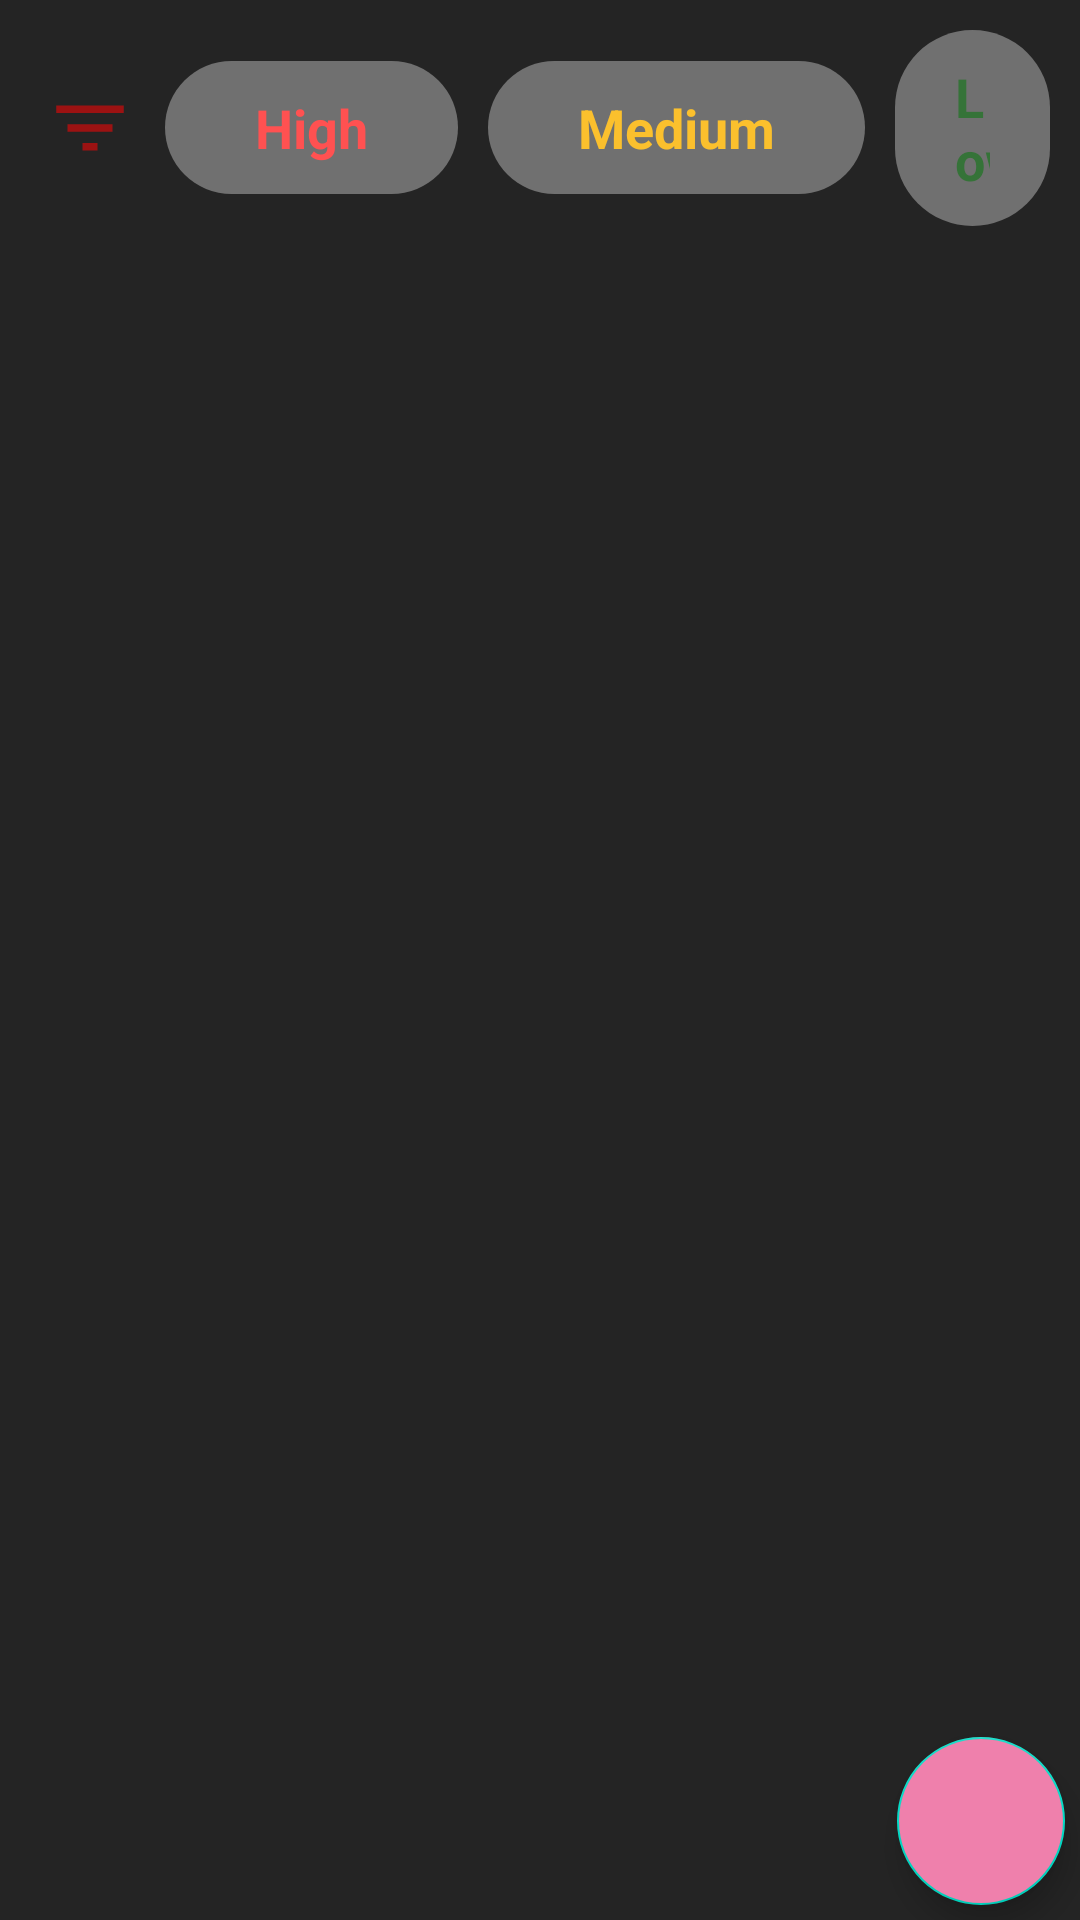

Named icons in this screenshot (1080x1920) and their centers, point (x, y):
filter icon: point (90, 128)
